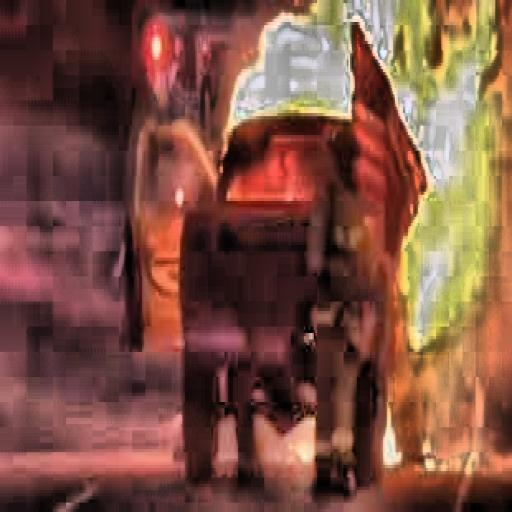fire: (390, 10, 507, 358), (212, 0, 378, 198), (261, 399, 322, 471), (370, 399, 424, 471)
